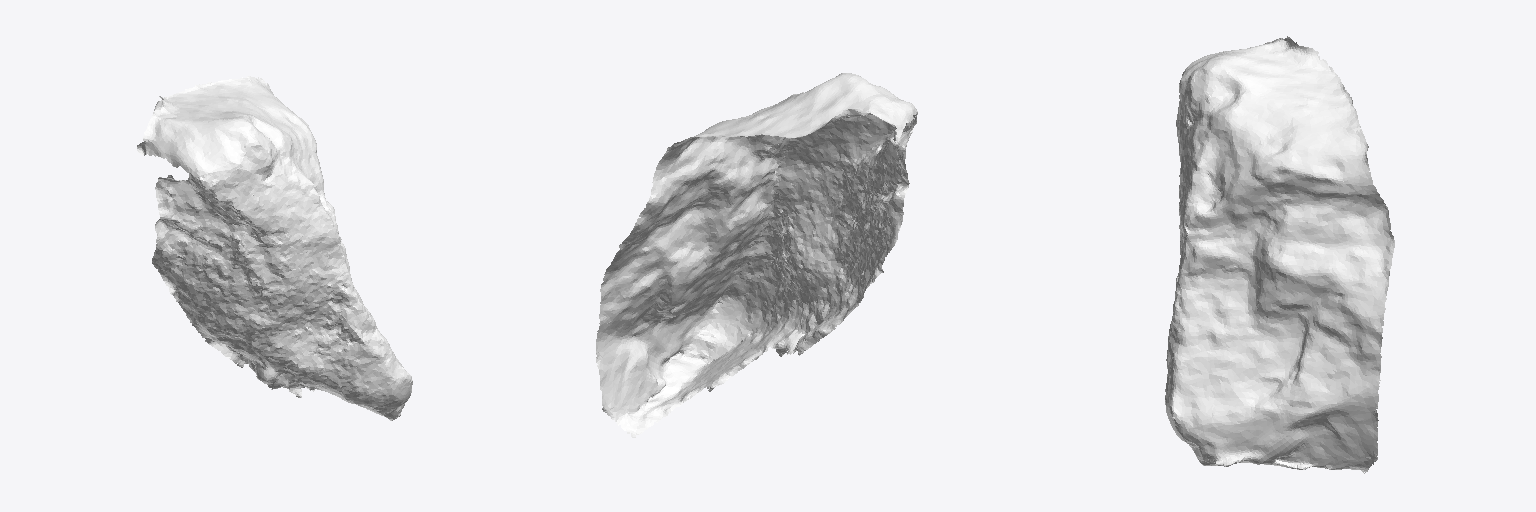
The model's file is sim_display.obj.
3 views of the same model, side by side, from view 1: azimuth 30°, elevation 25°; view 2: azimuth 150°, elevation 25°; view 3: azimuth 270°, elevation 25° (orthographic).
Parts seen in each view (by area): view 1: sim_display; view 2: sim_display; view 3: sim_display.
Part boxes in pixels (x1,y1,x2,y2): sim_display: (137,76,412,420); sim_display: (596,73,917,437); sim_display: (1165,36,1394,473).
Bounding box in the file's own units: 0.7705 × 1.03 × 0.6205.